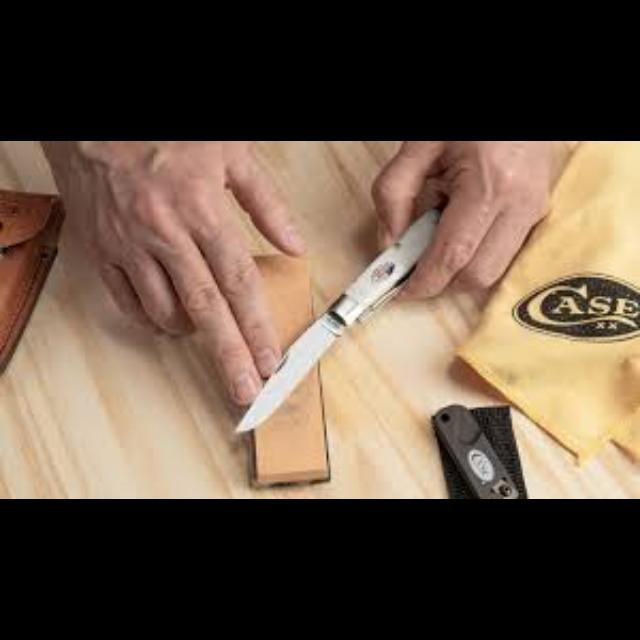Knife: (233, 207, 439, 433), (429, 404, 527, 496)
Person: (32, 142, 596, 326)
